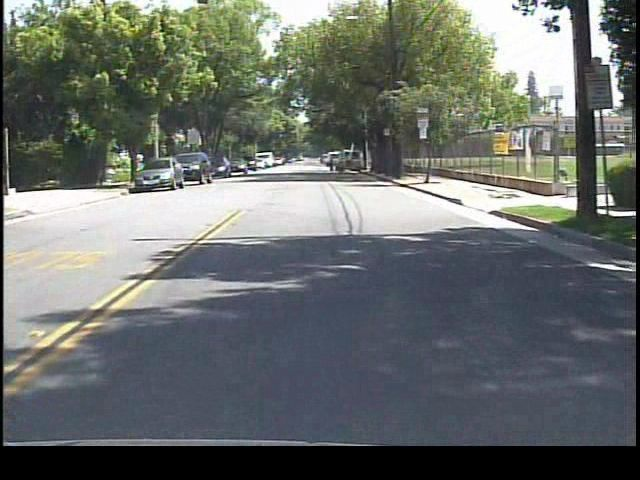person: (324, 151, 339, 177)
